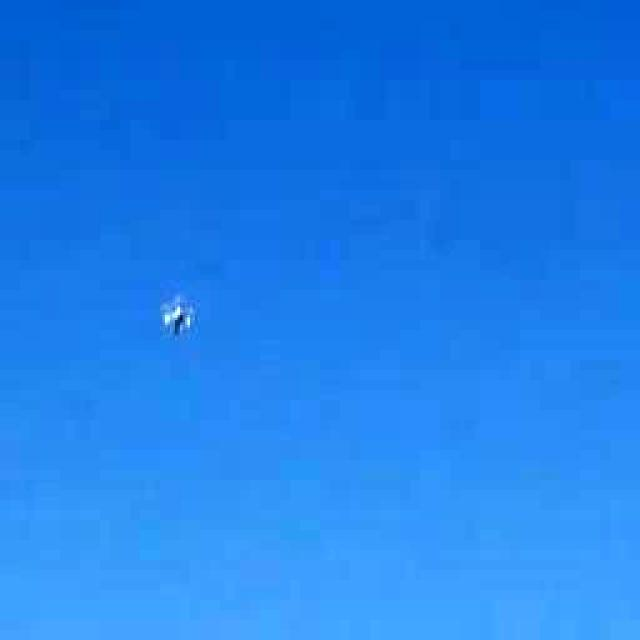bird: (128, 276, 222, 354)
